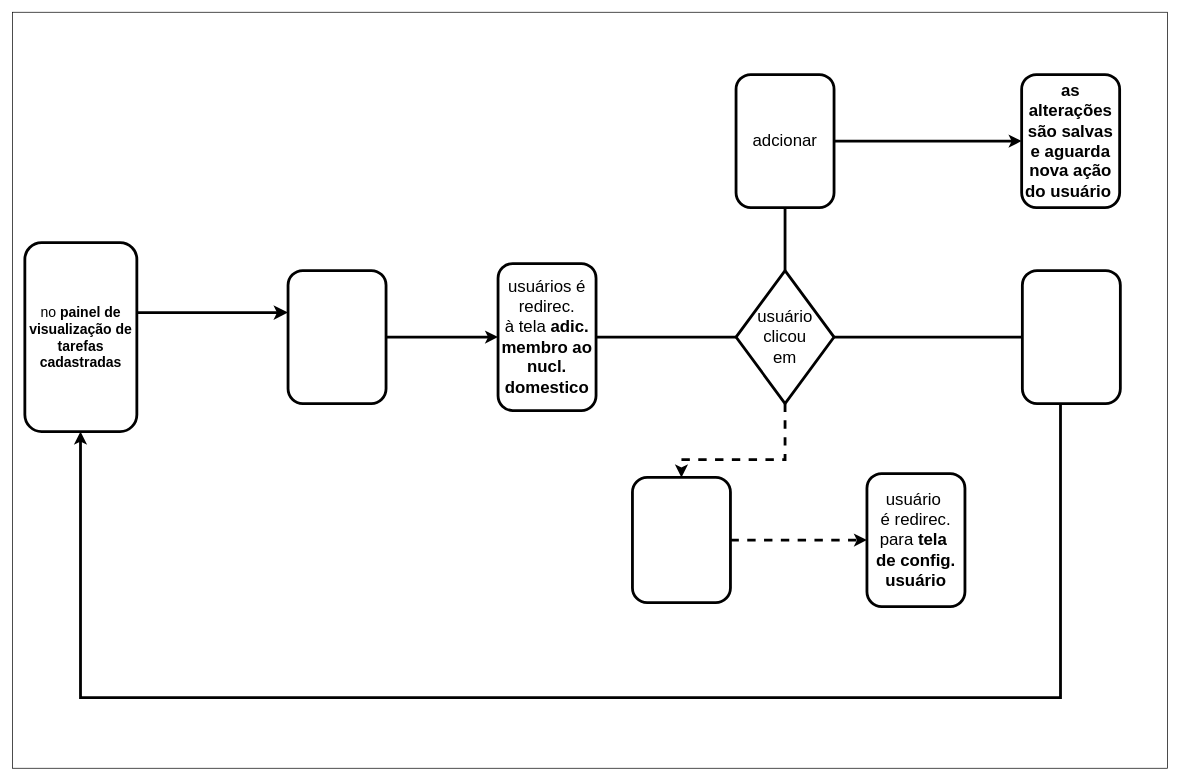
Some shapes in this 1180 by 781 pixel diagram are drawn without their labels. The shapes that lost their labels are listed below. From the top down, each one's centre as x and y in pixels, then its label:
At (336,337): "na tela ao clicar sobre o Adcionar Membro".
At (1071,337): "voltar".
At (681,540): "icone de config.".
